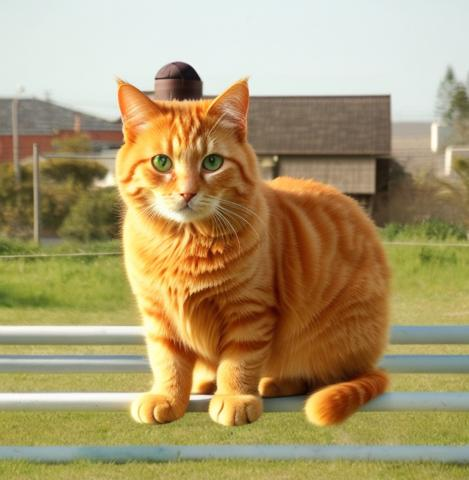cat: (112, 76, 393, 425)
person: (153, 61, 323, 263)
